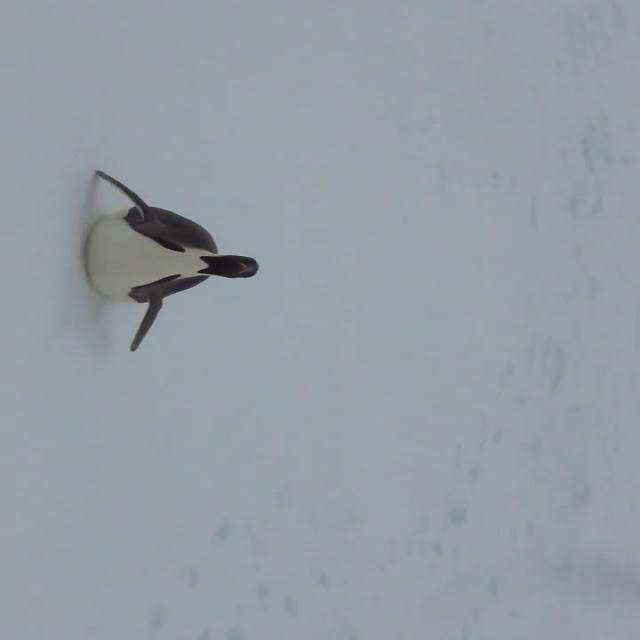penguin: (81, 169, 261, 352)
